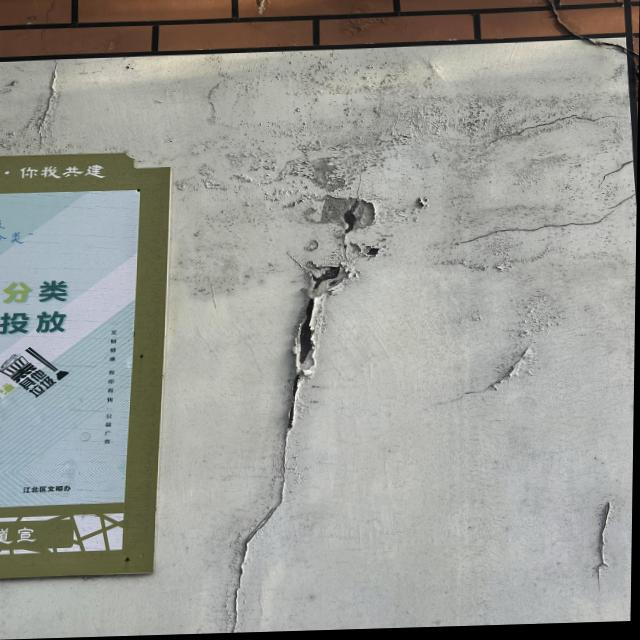crack: (437, 203, 636, 250), (450, 337, 550, 407), (233, 484, 276, 630), (589, 500, 621, 594)
spalling: (279, 168, 398, 488)
